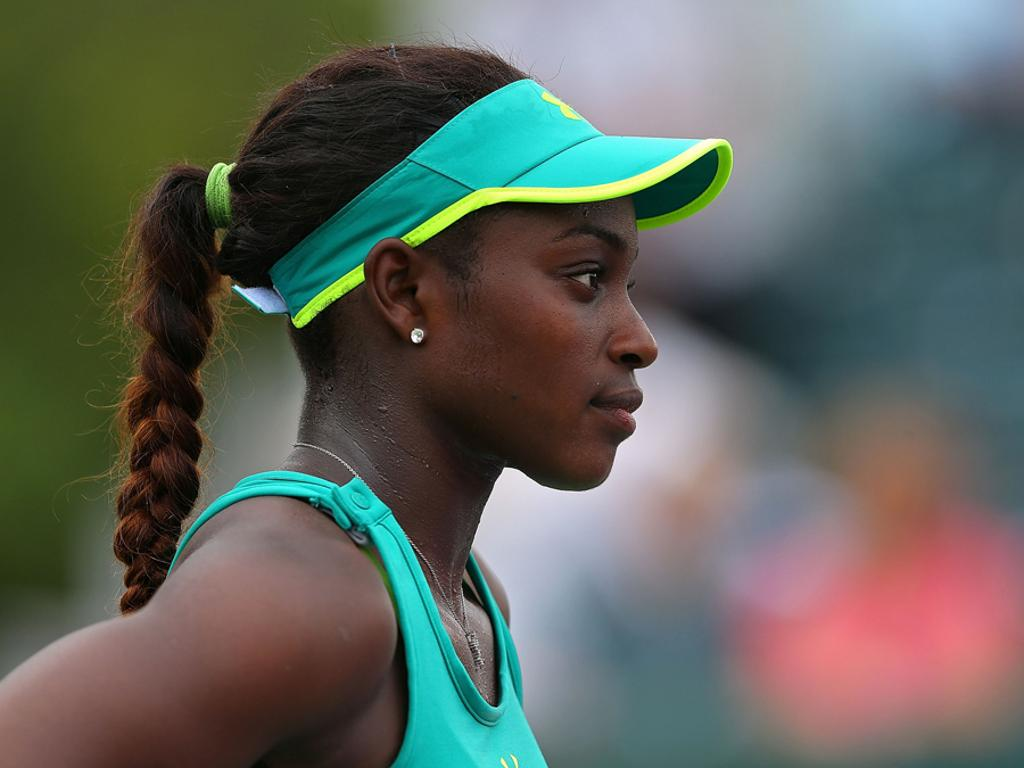face: (442, 184, 658, 492)
